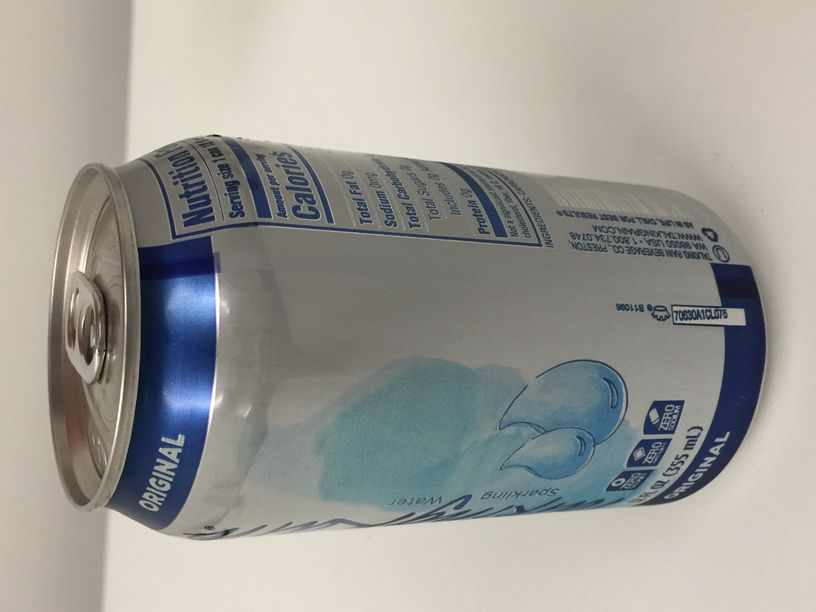competitor_02: (45, 133, 767, 541)
